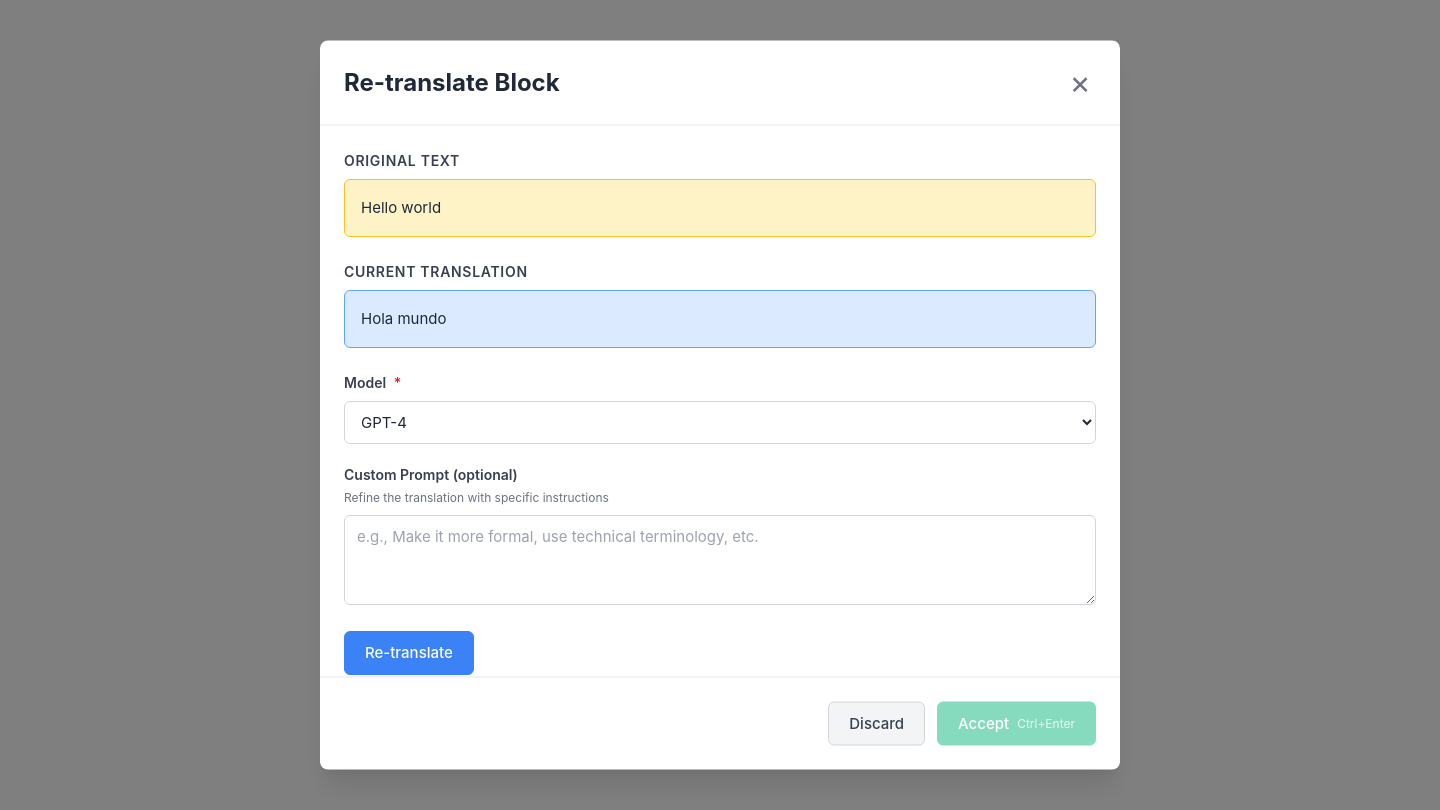
it: BlockRetranslate Component › Re-translation › shows loading state during translation
Click the button with test id "retranslate-button" at point(409, 652), box x1=344 y1=630 x2=474 y2=674
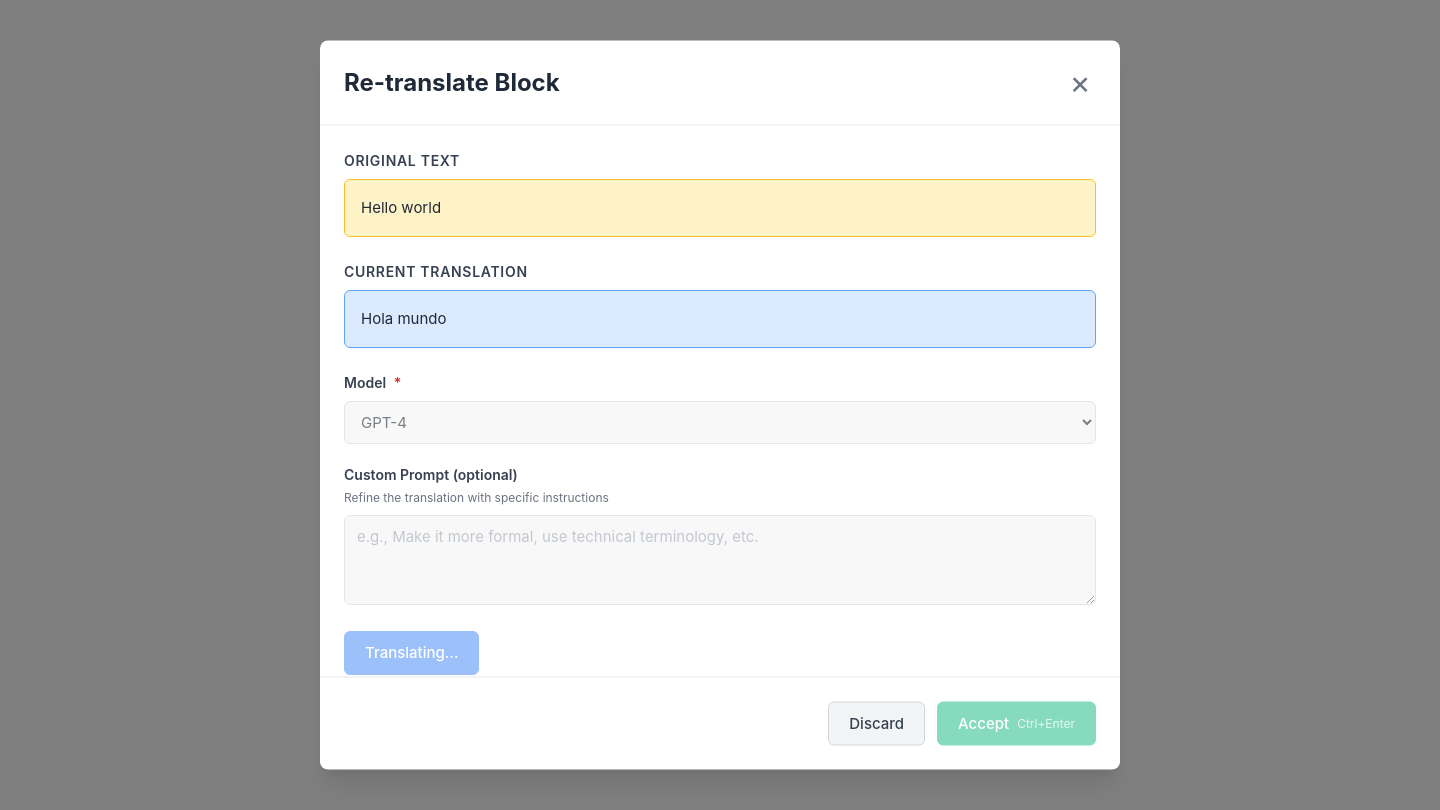
Check: the button "Translating..." is disabled, box x1=344 y1=630 x2=480 y2=674
